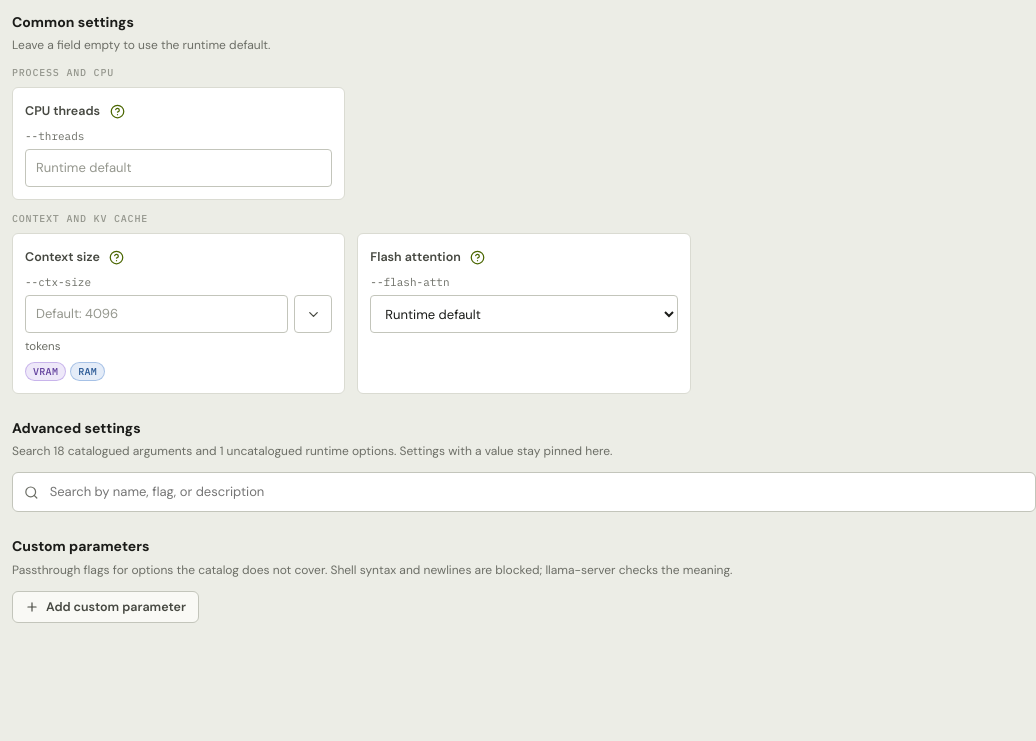
ProfileArgumentEditor › searches advanced arguments, pins added settings, and removes them
Type "warmup" into the search field named "Search arguments" at [536, 492], box [48, 482, 1024, 503]
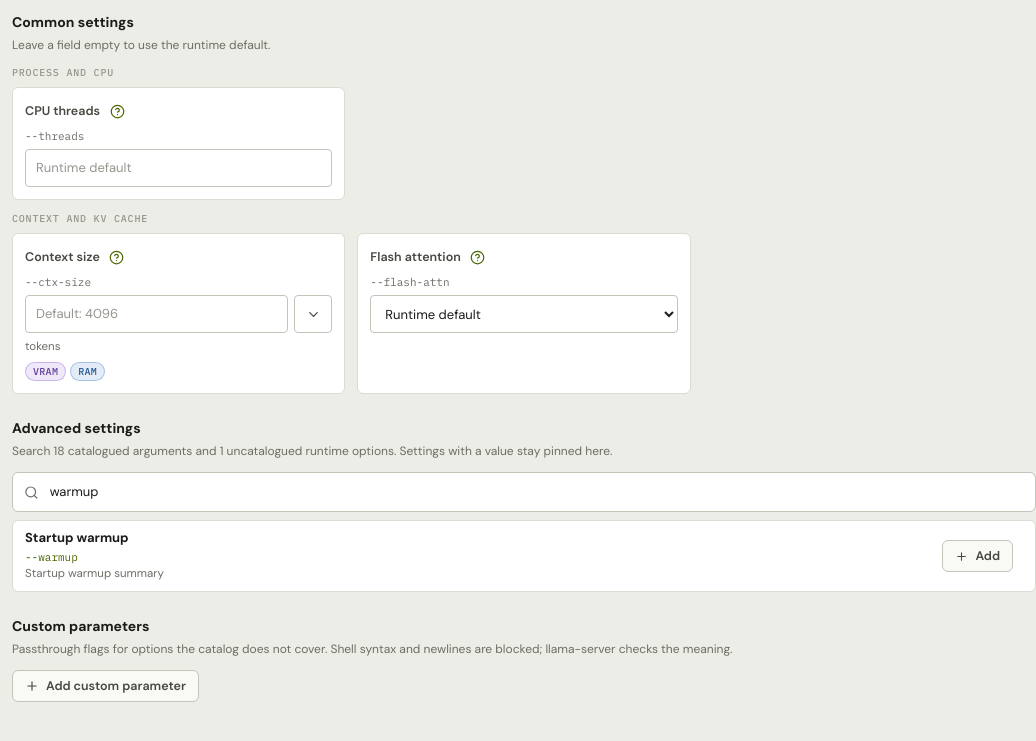
Click the button with aria-label "Add Startup warmup" at [978, 556], box [942, 540, 1013, 572]
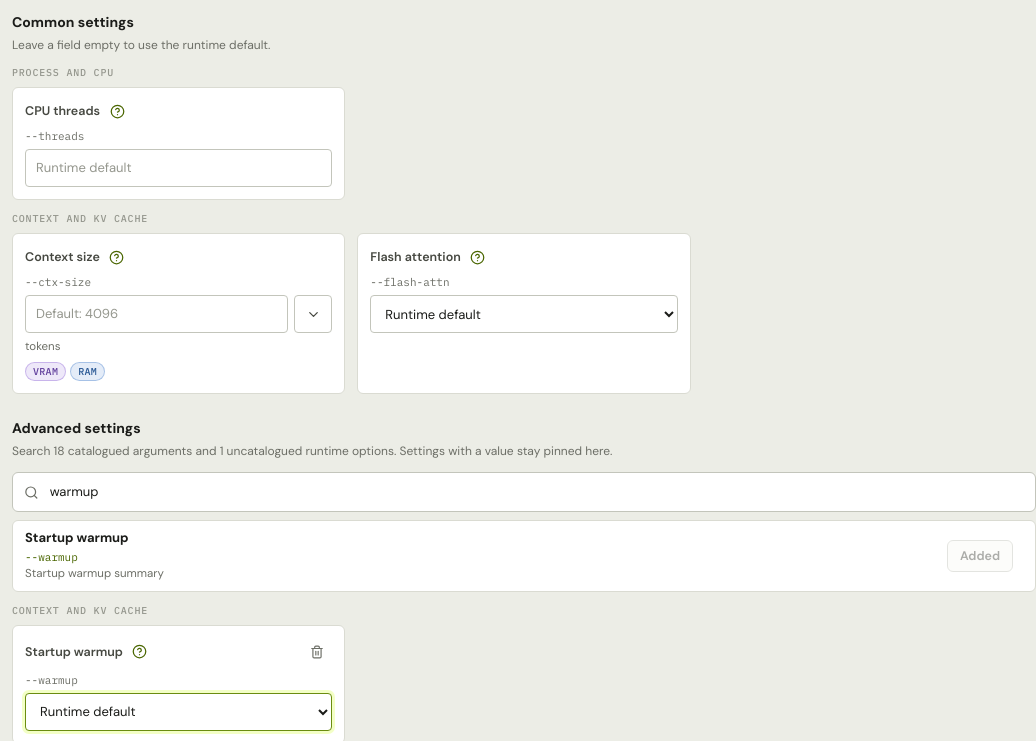
Expected: the button with aria-label "Add Startup warmup" is disabled, [947, 540, 1013, 572]
Select "Disabled (--no-warmup)" in the dropdown labelled "Startup warmup" at [179, 712], box [25, 693, 332, 731]
Select "Runtime default" in the dropdown labelled "Startup warmup" at [179, 712], box [25, 693, 332, 731]
Click the button named "Remove Startup warmup" at [317, 652], box [302, 637, 332, 667]
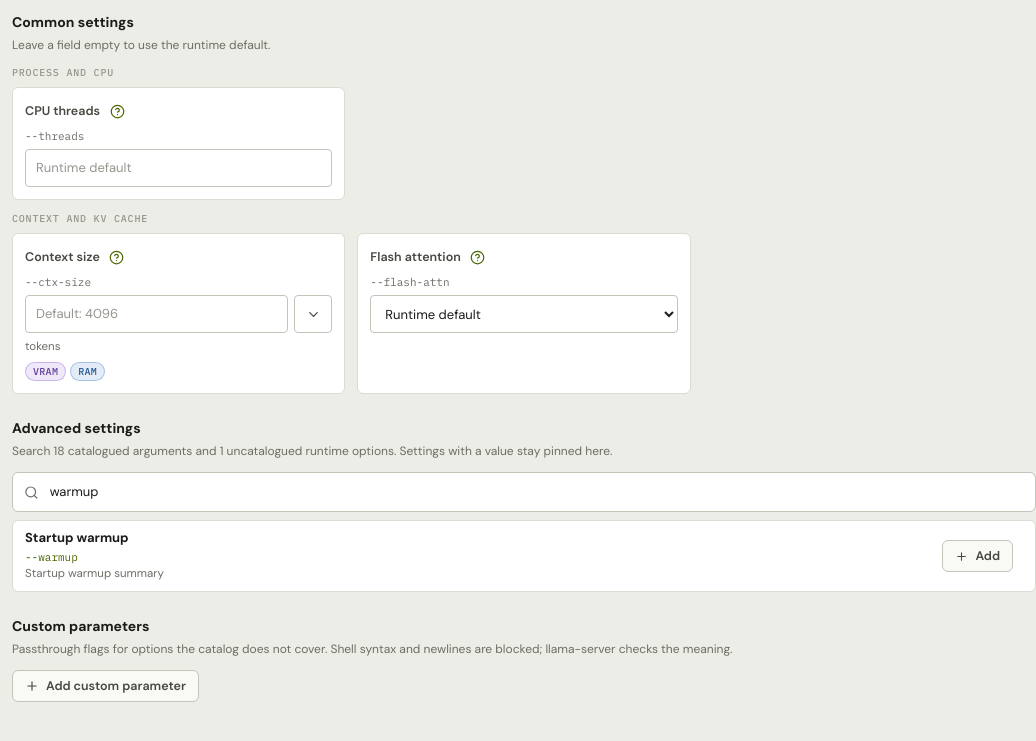
Replace the text in the search field named "Search arguments" with "port" at [536, 492], box [48, 482, 1024, 503]
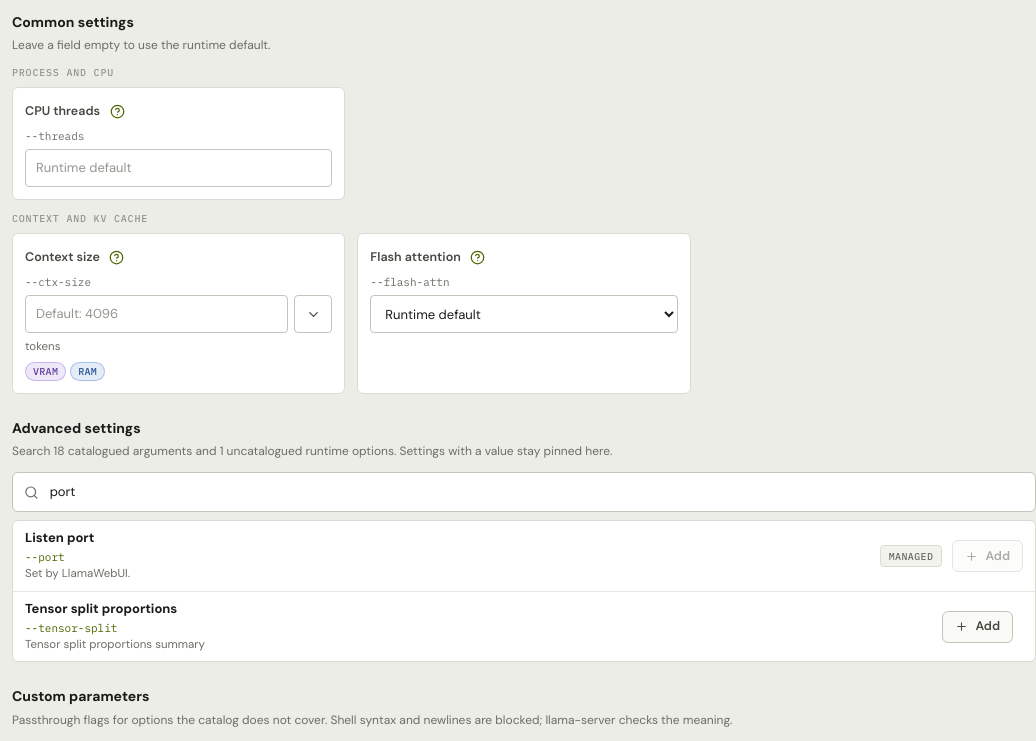
Expected: the button with aria-label "Add Listen port" is disabled, [952, 540, 1023, 572]
Expected: the text "Set by LlamaWebUI." is shown, [25, 566, 130, 581]
Replace the text in the search field named "Search arguments" with "removed" at [536, 492], box [48, 482, 1024, 503]
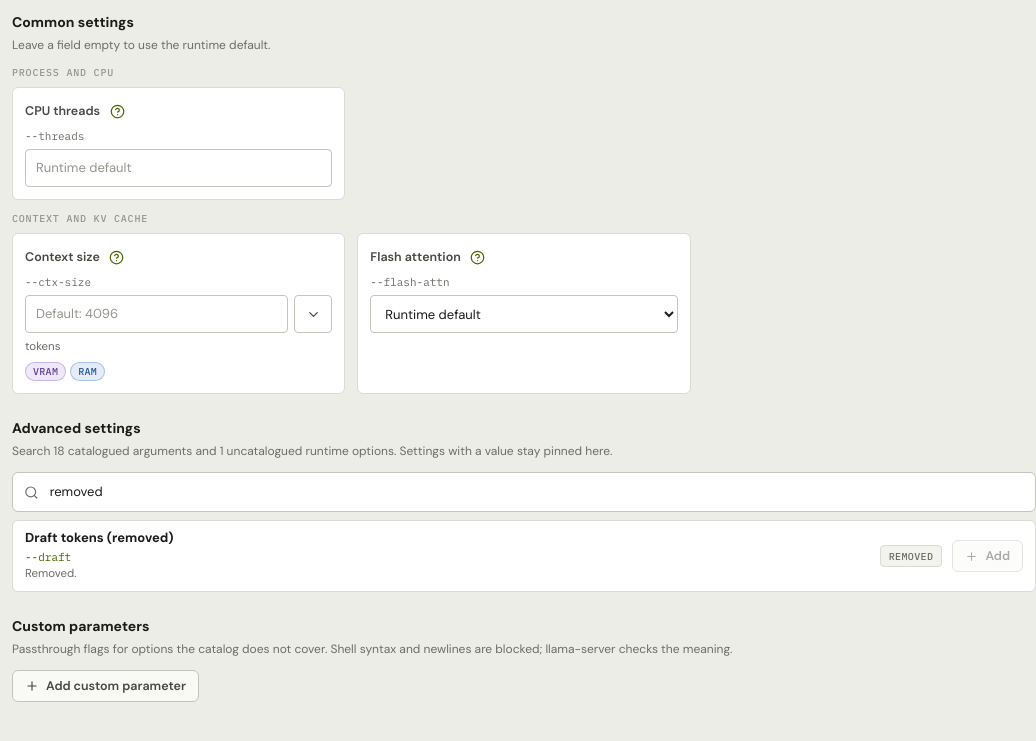
Expected: the text "Removed" is shown, [880, 545, 942, 567]
Replace the text in the search field named "Search arguments" with "nothing-matches" at [536, 492], box [48, 482, 1024, 503]
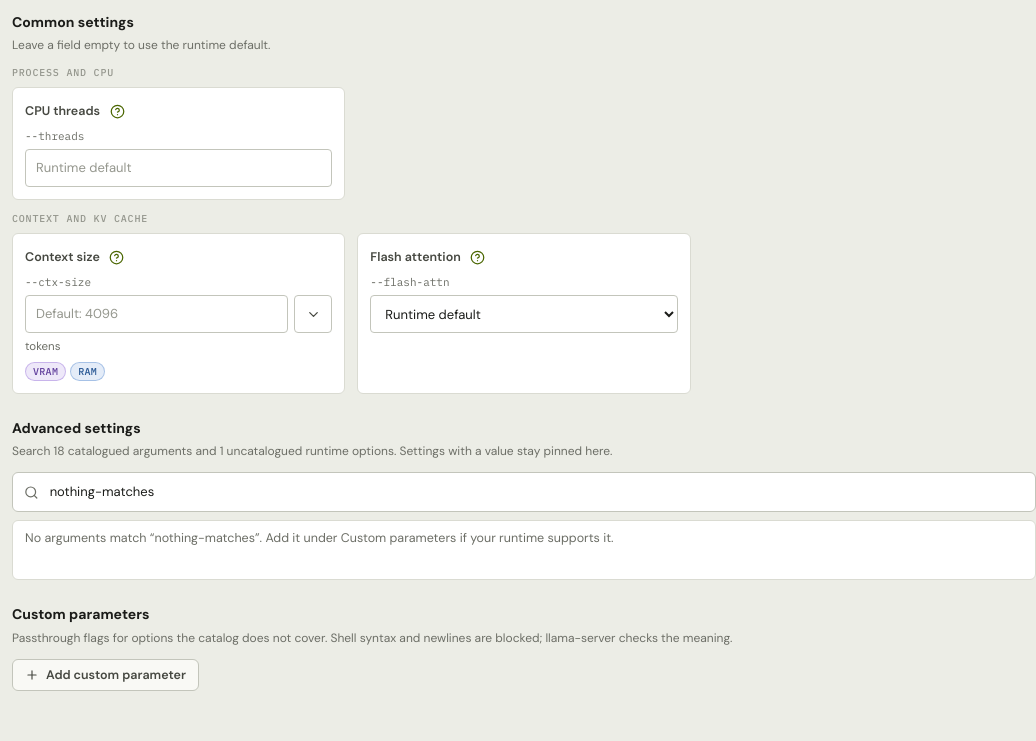
Expected: the list item "No arguments match" is shown, [25, 530, 154, 546]
